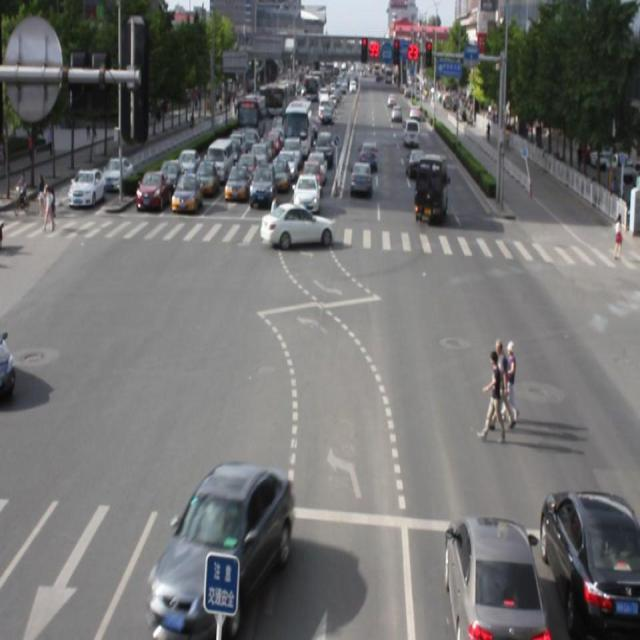car: (146, 461, 290, 640), (535, 493, 640, 640), (442, 516, 541, 640), (261, 201, 331, 248)
